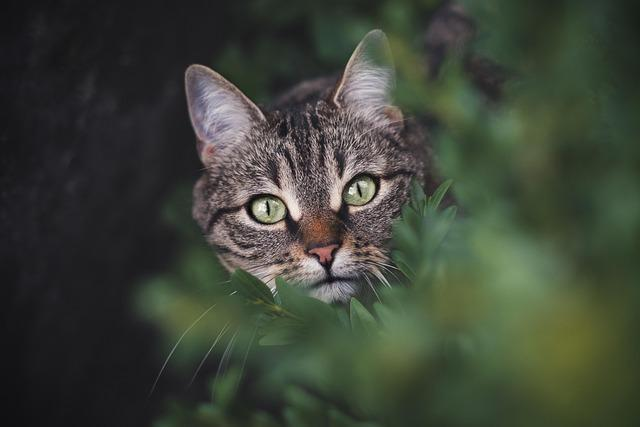kedo: (187, 26, 426, 304)
